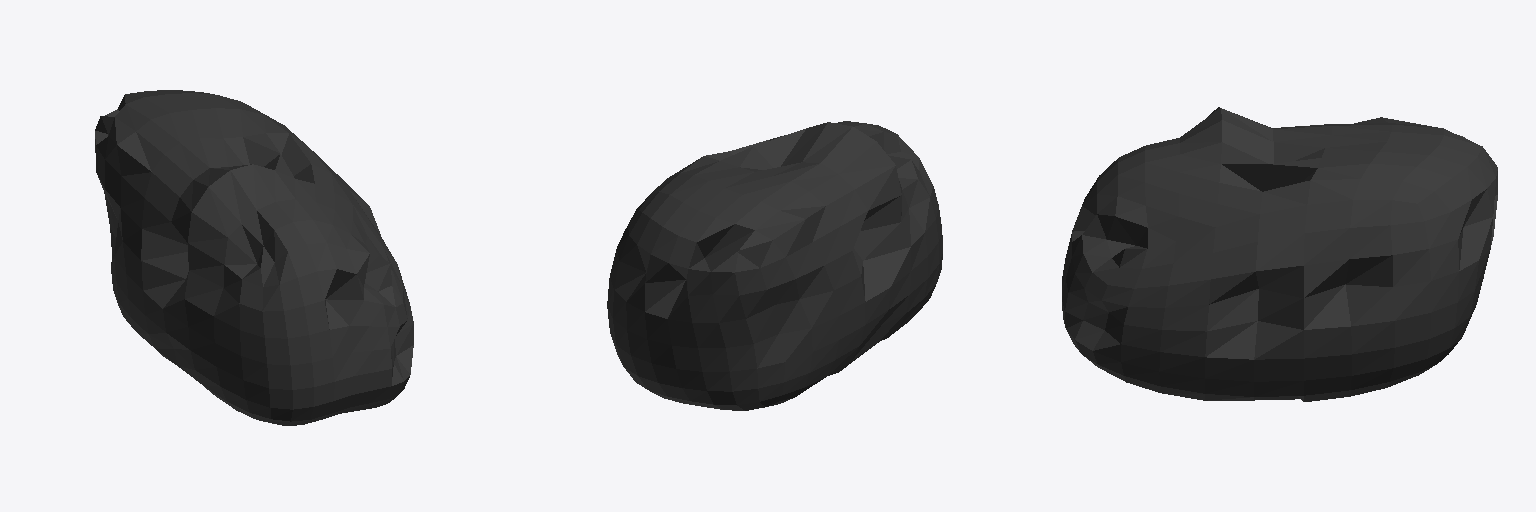
File: asteroid.obj
3 renders of one model, left to right at view 1: azimuth 30°, elevation 25°; view 2: azimuth 150°, elevation 25°; view 3: azimuth 270°, elevation 25°, orthographic.
Parts seen in each view (by area): view 1: pCube1; view 2: pCube1; view 3: pCube1.
Boxes of the visible parts, <box> form: pCube1: <box>95,90,413,425</box>; pCube1: <box>607,121,942,410</box>; pCube1: <box>1062,107,1497,401</box>.
Size of the model in its own units: 1.36 by 1.45 by 2.37.